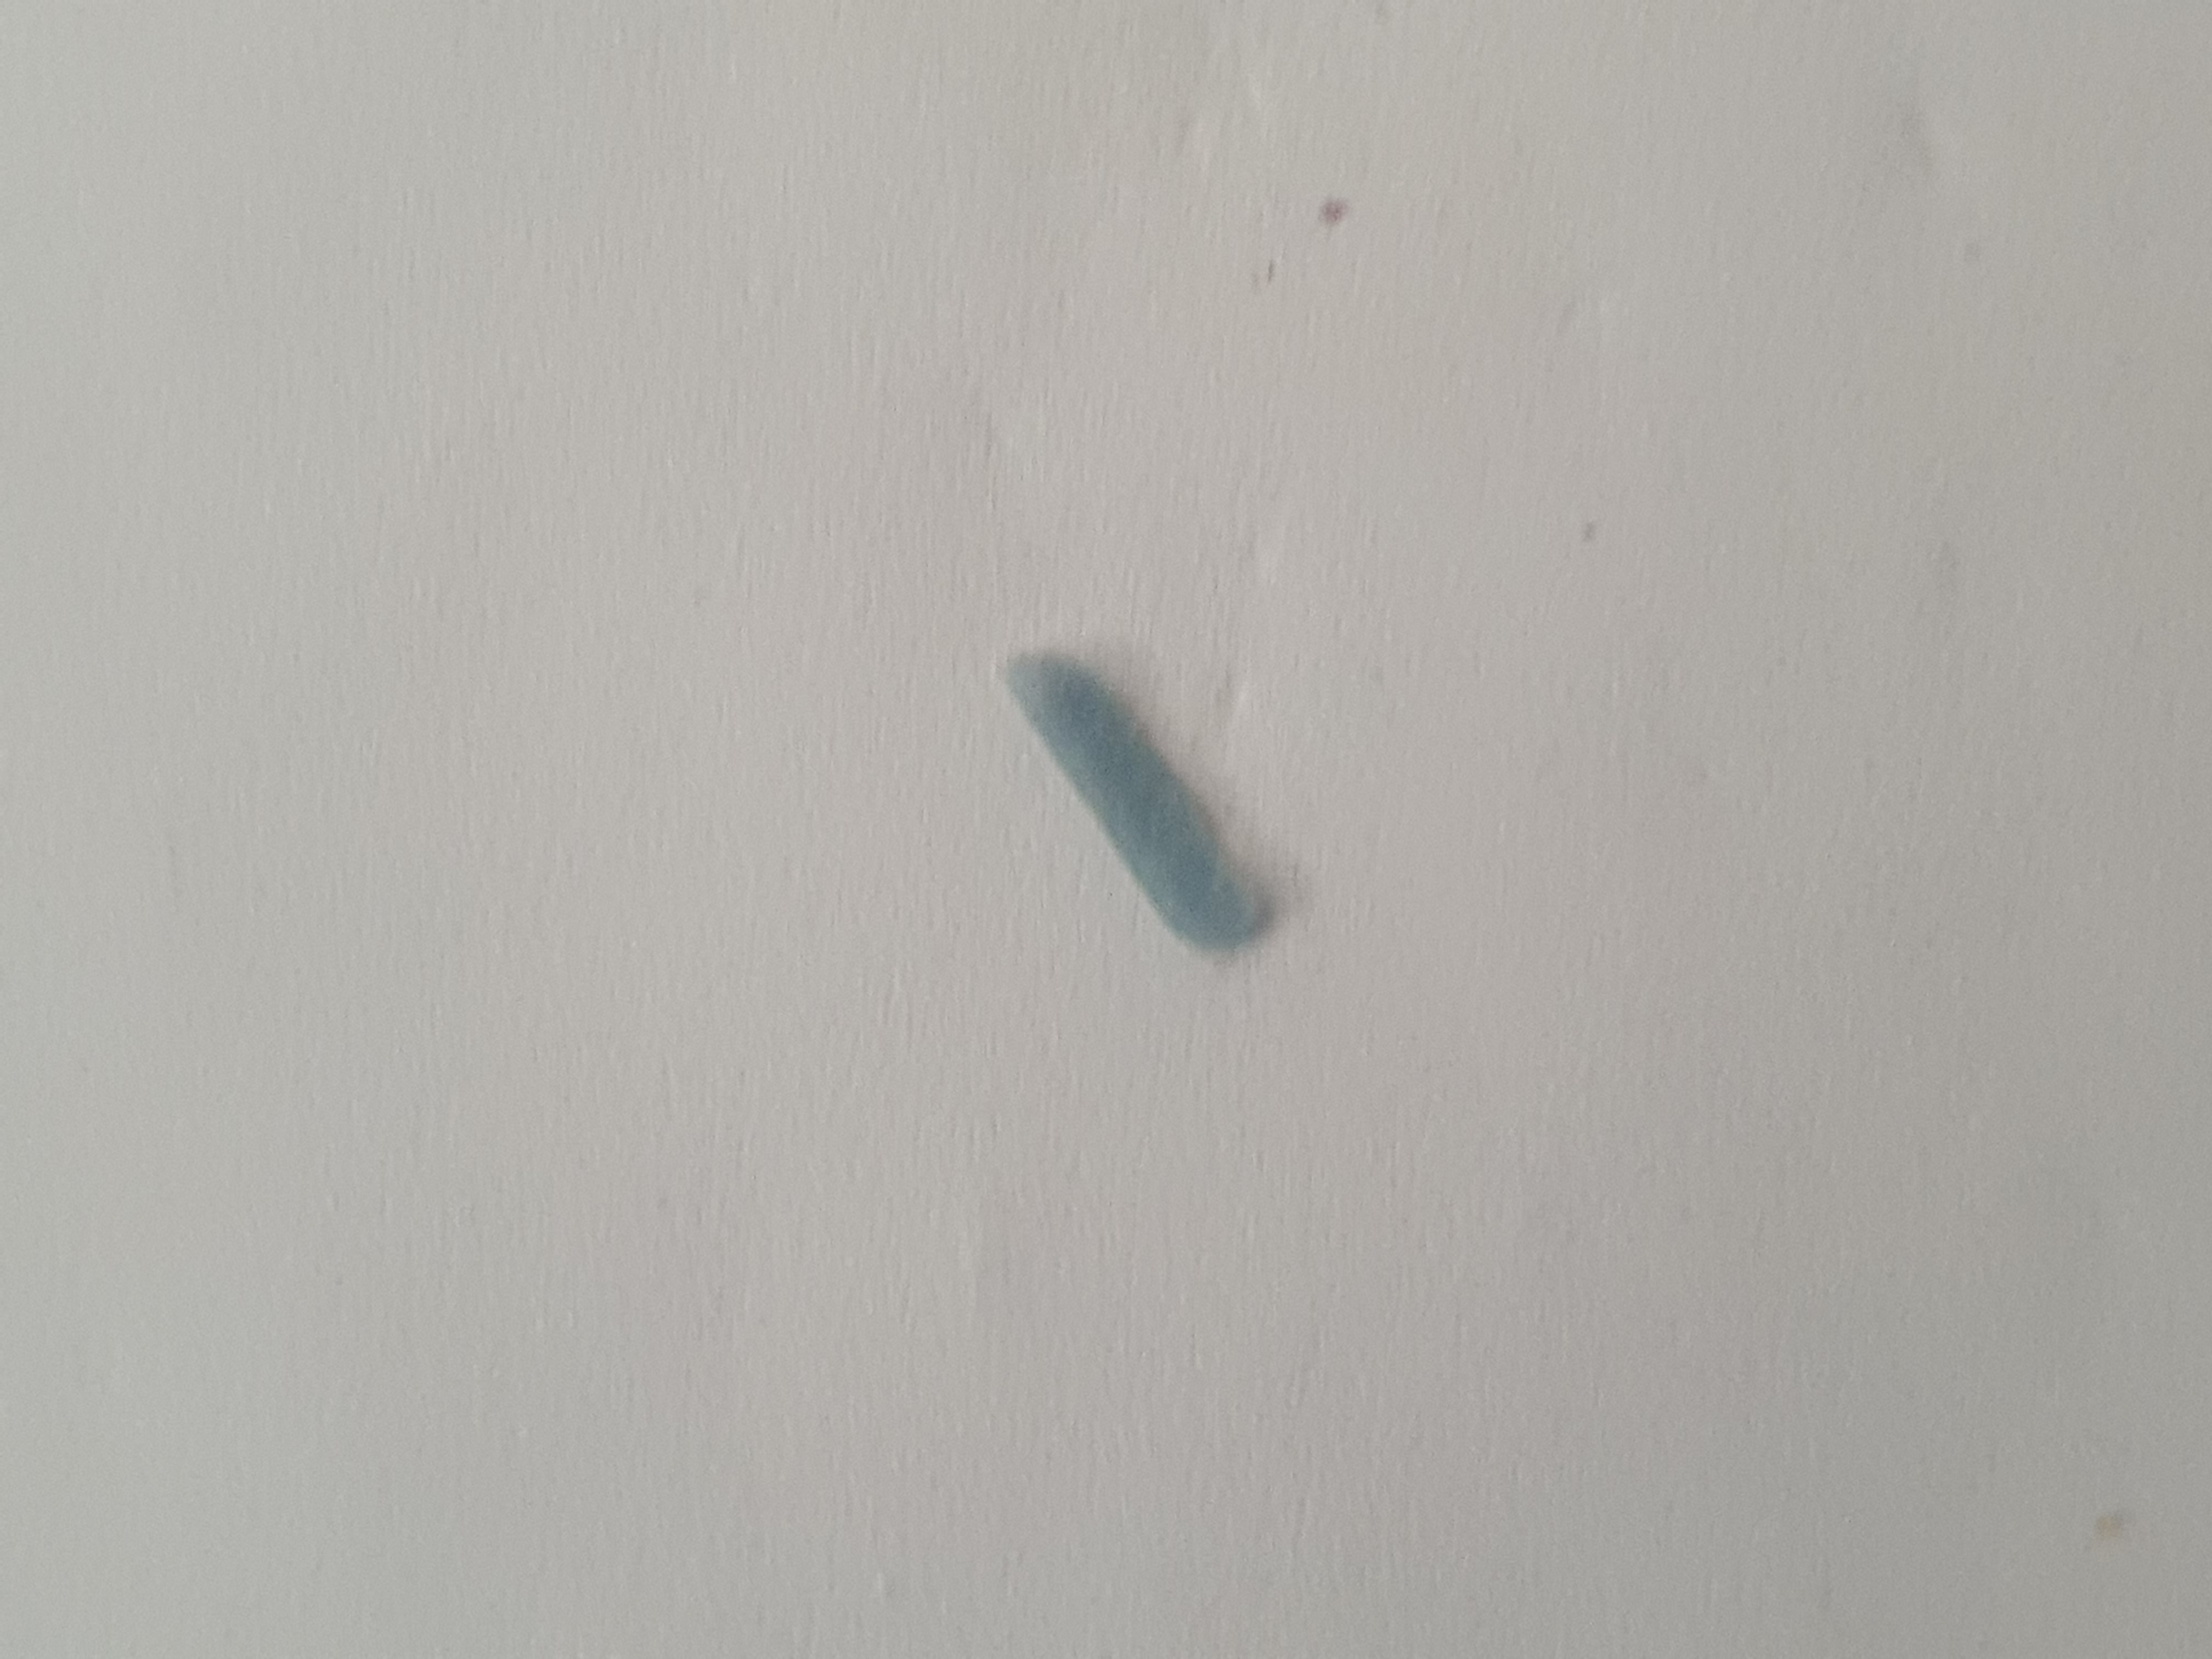plastic: (960, 647, 1327, 962)
